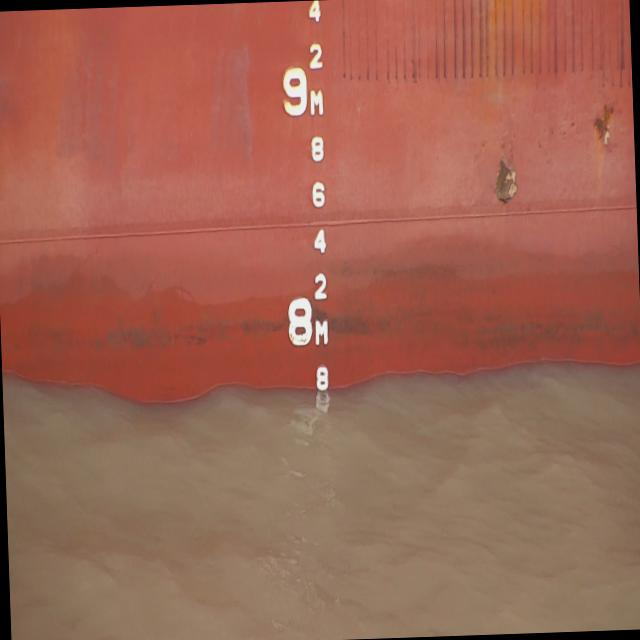Ship Draft Marks: (286, 296, 313, 346), (282, 68, 308, 115), (311, 180, 325, 210), (309, 42, 323, 71), (314, 318, 328, 346), (313, 273, 328, 298), (312, 228, 326, 254), (310, 136, 324, 161), (310, 90, 324, 114), (316, 365, 328, 391), (308, 0, 320, 24)
